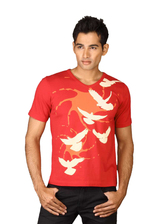clothoes: (24, 65, 140, 193)
